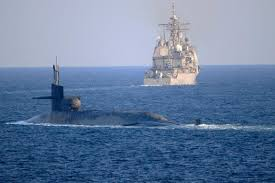tau_muctieu: (152, 13, 197, 90)
